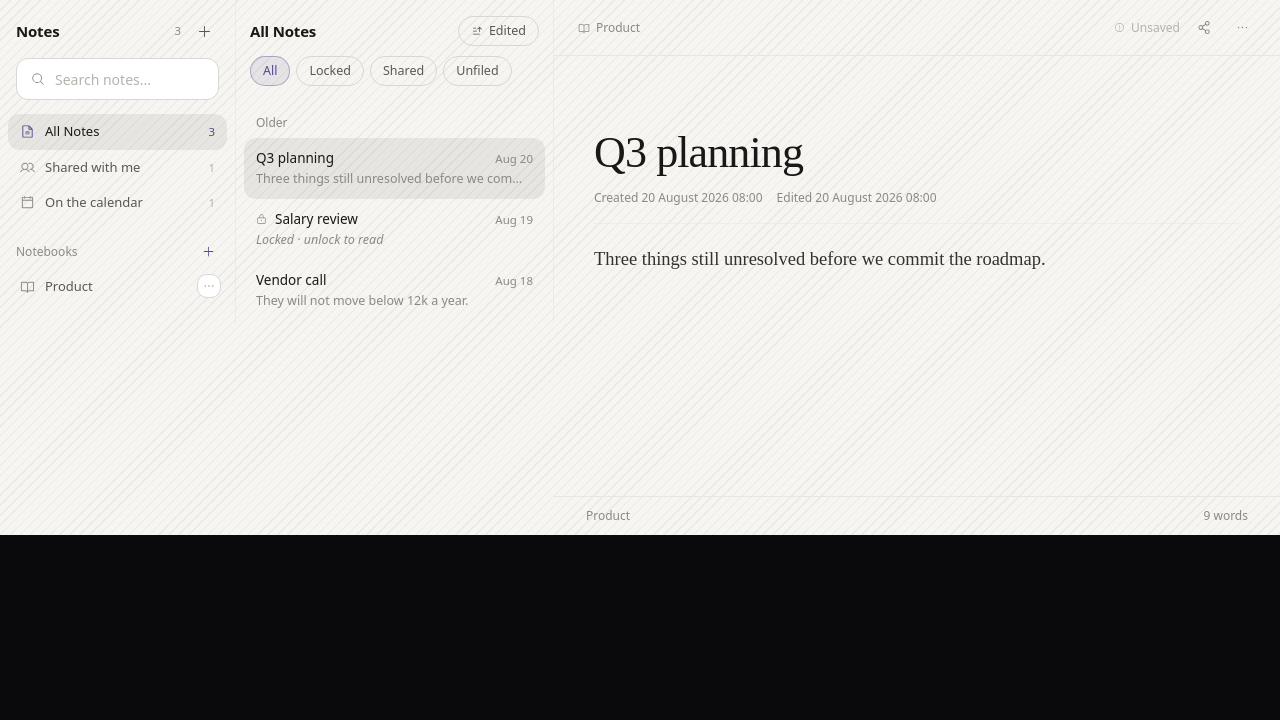
Test: NotesWorkspace › opens the share dialog for a note you own
What coordinates should you click on to do the following:
click the button named "Share"
I would click on:
 (1204, 28)
Its box is [1188,12,1220,44].
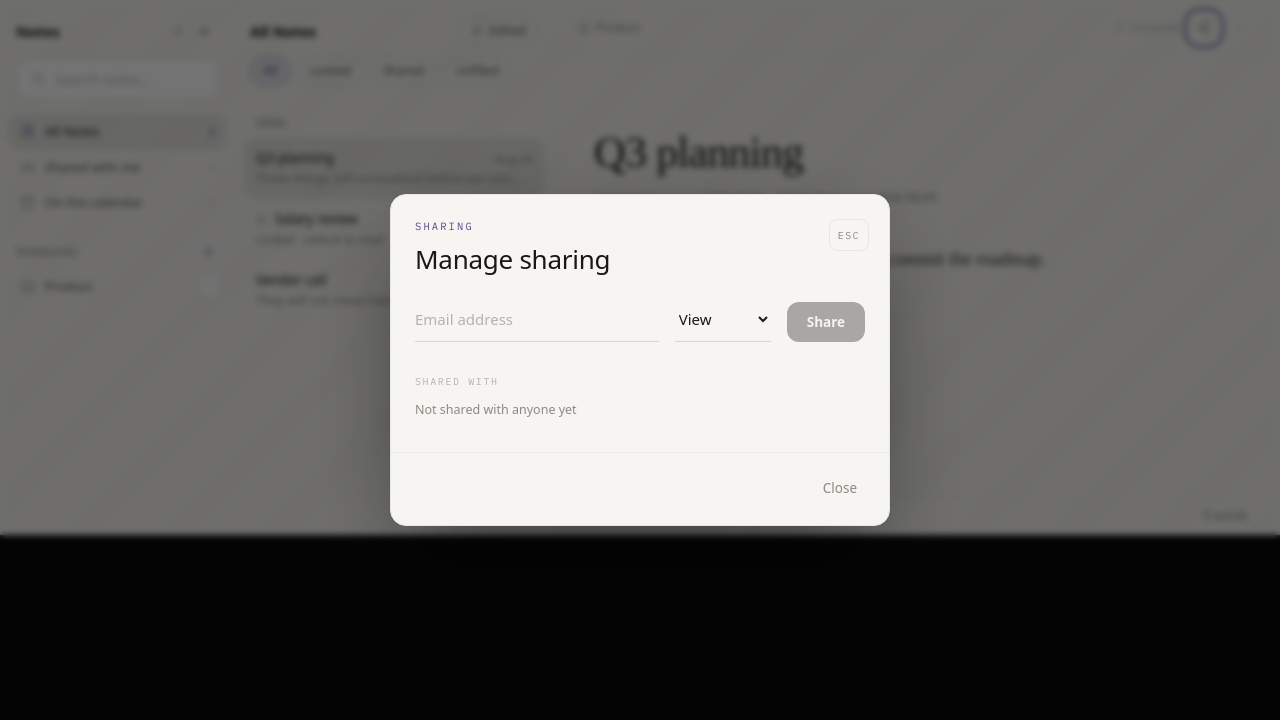
Now the field labelled "Email address" is shown, box [415,308,659,330]
Now the dropdown named "Permission" is shown, box [675,308,771,330]
